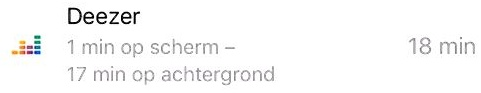name: (60, 3, 150, 31)
time: (63, 62, 129, 87), (63, 37, 120, 60)
